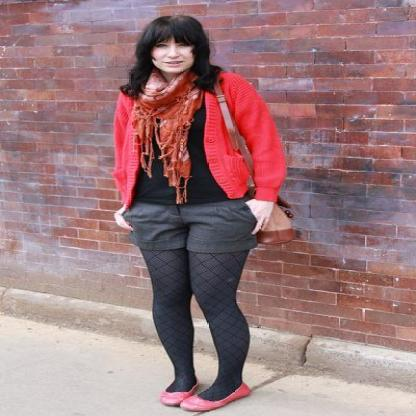bag: (187, 92, 301, 248)
jacket: (106, 72, 285, 207)
shoe: (158, 390, 187, 406)
